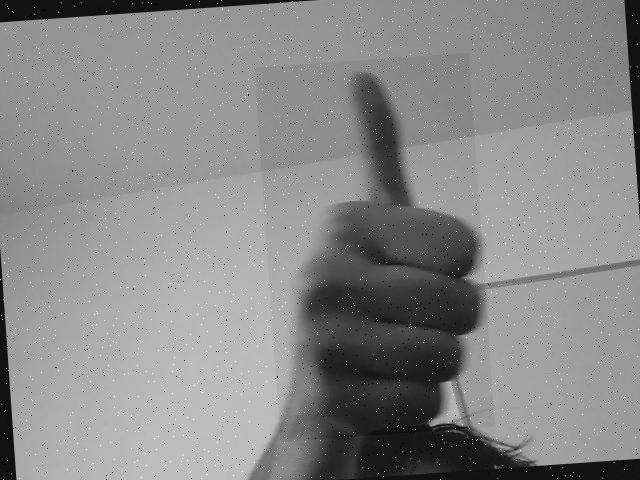good: (272, 62, 483, 433)
